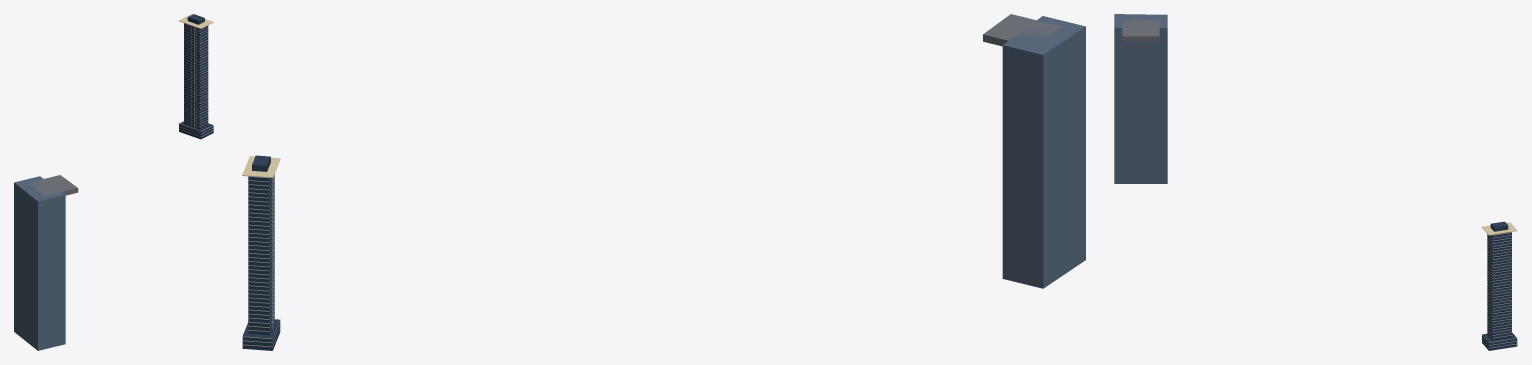
File: blvd-heights-tower-1.glb
3 views of the same model, side by side, from view 1: azimuth 30°, elevation 25°; view 2: azimuth 150°, elevation 25°; view 3: azimuth 270°, elevation 25° (orthographic). The views are drawn at different scales.
Visible parts, largest first — view 1: vision_slab_-1, B_723559993_blvd-heights-tower-1, vision_crown, B_723559993_blvd-heights-tower-1_gold; view 2: vision_slab_-1, B_723559993_blvd-heights-tower-1, vision_crown; view 3: vision_slab_-1, B_723559993_blvd-heights-tower-1, vision_crown.
Boxes of the visible parts, box(x1,y1,x2,y2) form: vision_slab_-1: box(14, 176, 65, 350); B_723559993_blvd-heights-tower-1: box(179, 14, 213, 139); vision_crown: box(28, 175, 78, 195); B_723559993_blvd-heights-tower-1_gold: box(179, 14, 213, 28); vision_slab_-1: box(1002, 16, 1085, 288); B_723559993_blvd-heights-tower-1: box(242, 155, 280, 350); vision_crown: box(983, 14, 1061, 46); vision_slab_-1: box(1114, 14, 1167, 183); B_723559993_blvd-heights-tower-1: box(1482, 221, 1517, 350); vision_crown: box(1122, 19, 1159, 41).
Size of the model in its own units: 647 by 260 by 609.
